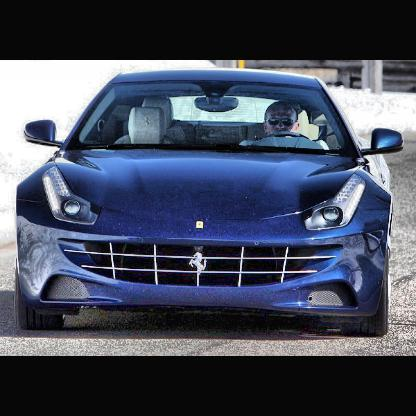Ferrari FF Coupe 2012: (19, 67, 406, 340)
